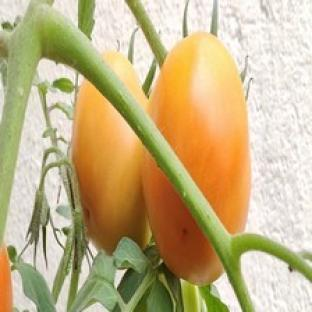Tomato: (150, 33, 250, 232), (73, 80, 150, 253), (0, 246, 12, 311)
